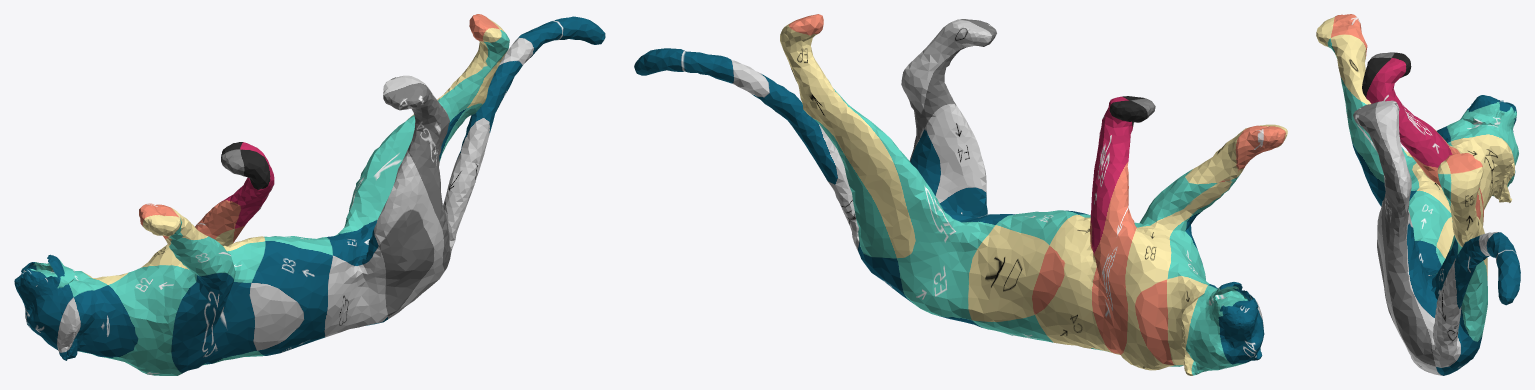
Rendered from cougar_04-cougar_02.obj.
3 renders of one model, left to right at view 1: azimuth 30°, elevation 25°; view 2: azimuth 150°, elevation 25°; view 3: azimuth 270°, elevation 25°, orthographic. The views are drawn at different scales.
Visible parts, largest first — view 1: cougar_04-cougar_02_export; view 2: cougar_04-cougar_02_export; view 3: cougar_04-cougar_02_export.
Boxes of the visible parts, x1=… form: cougar_04-cougar_02_export: x1=14, y1=14, x2=605, y2=375; cougar_04-cougar_02_export: x1=634, y1=14, x2=1287, y2=375; cougar_04-cougar_02_export: x1=1316, y1=14, x2=1520, y2=375.
Bounding box in the file's own units: 1.32 × 0.5767 × 0.3827.
